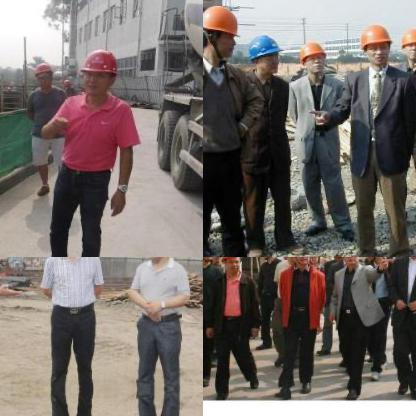Helmet: (76, 44, 120, 98), (203, 1, 241, 59), (245, 31, 281, 78), (358, 20, 392, 68), (298, 38, 328, 78), (30, 58, 54, 90), (398, 24, 415, 64), (203, 35, 212, 77), (219, 257, 241, 271), (338, 257, 360, 264), (307, 257, 322, 267), (290, 257, 311, 264), (328, 257, 343, 262)
